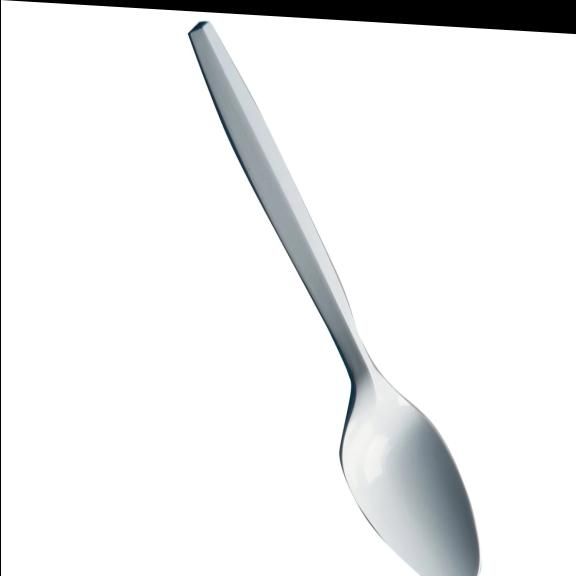Plastik: (189, 22, 479, 575)
